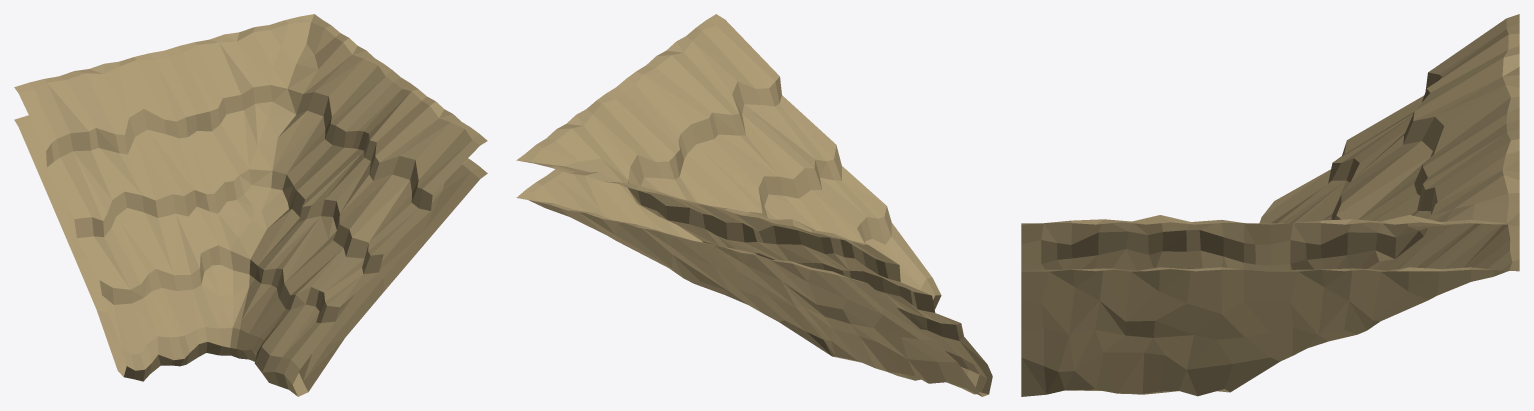
Rendered from rpgpp_ag_roof_02_6x3x3_corner_01.fbx.
The picture shows the model from 3 angles, left to right: view 1: azimuth 30°, elevation 25°; view 2: azimuth 150°, elevation 25°; view 3: azimuth 270°, elevation 25°; orthographic projection. The views are drawn at different scales.
Visible parts, largest first — view 1: rpgpp_ag_roof_02_6x3x3_corner_01; view 2: rpgpp_ag_roof_02_6x3x3_corner_01; view 3: rpgpp_ag_roof_02_6x3x3_corner_01.
Part boxes in pixels (<box>): rpgpp_ag_roof_02_6x3x3_corner_01: <box>14,14,487,396</box>; rpgpp_ag_roof_02_6x3x3_corner_01: <box>516,14,992,396</box>; rpgpp_ag_roof_02_6x3x3_corner_01: <box>1021,14,1519,396</box>.
Size of the model in its own units: 6 by 4.16 by 6.
